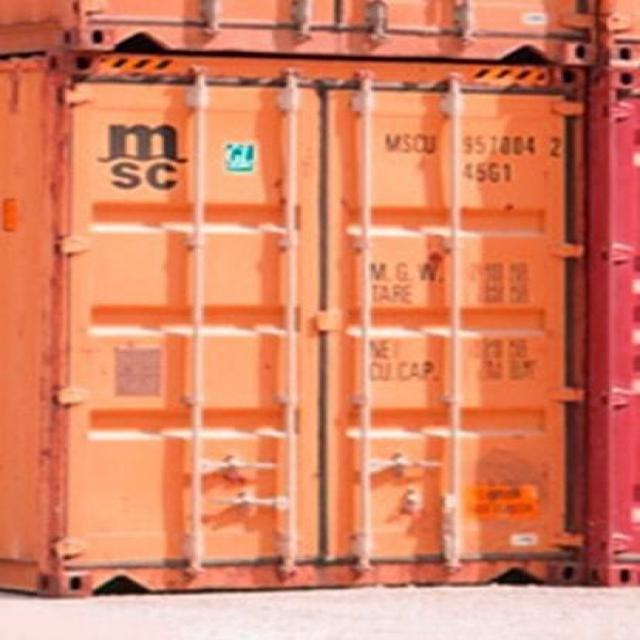ISO: (464, 162, 517, 184)
container_number: (382, 129, 574, 158)
